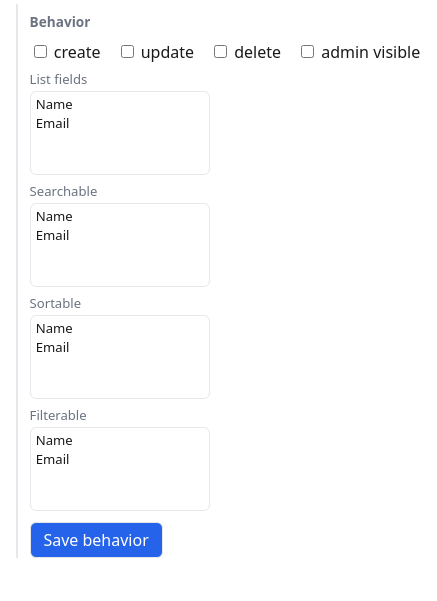
Scenario: BehaviorEditor › surfaces an error when the save is rejected
What coordinates should you click on to do the following:
click the button "Save behavior"
I would click on:
 (96, 540)
Its box is [30, 522, 163, 558].
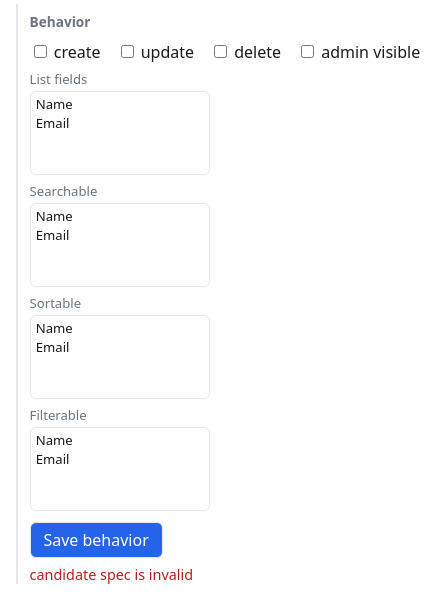
Check: the message shows "invalid", box [30, 565, 193, 584]
